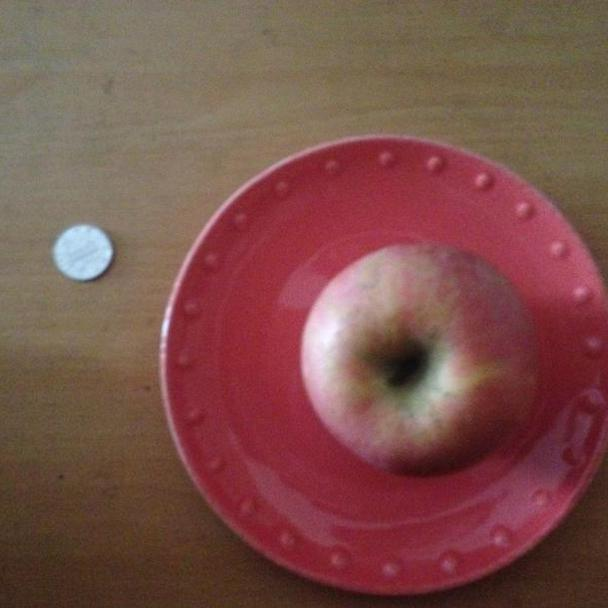apple: (298, 242, 545, 476)
